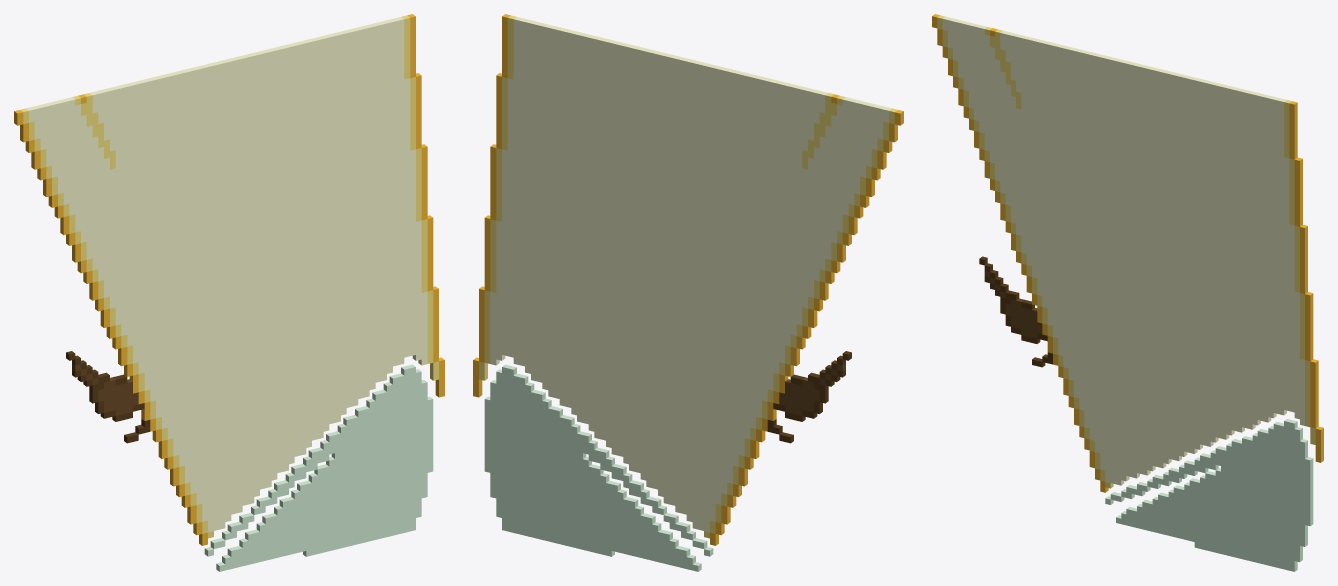
File: Fight_701_2_05_fx.obj
The picture shows the model from 3 angles, left to right: view 1: azimuth 30°, elevation 25°; view 2: azimuth 150°, elevation 25°; view 3: azimuth 330°, elevation 25°; orthographic projection. The views are drawn at different scales.
Size of the model in its own units: 7.4 by 8.5 by 0.1.
1 material, 1 textured.
